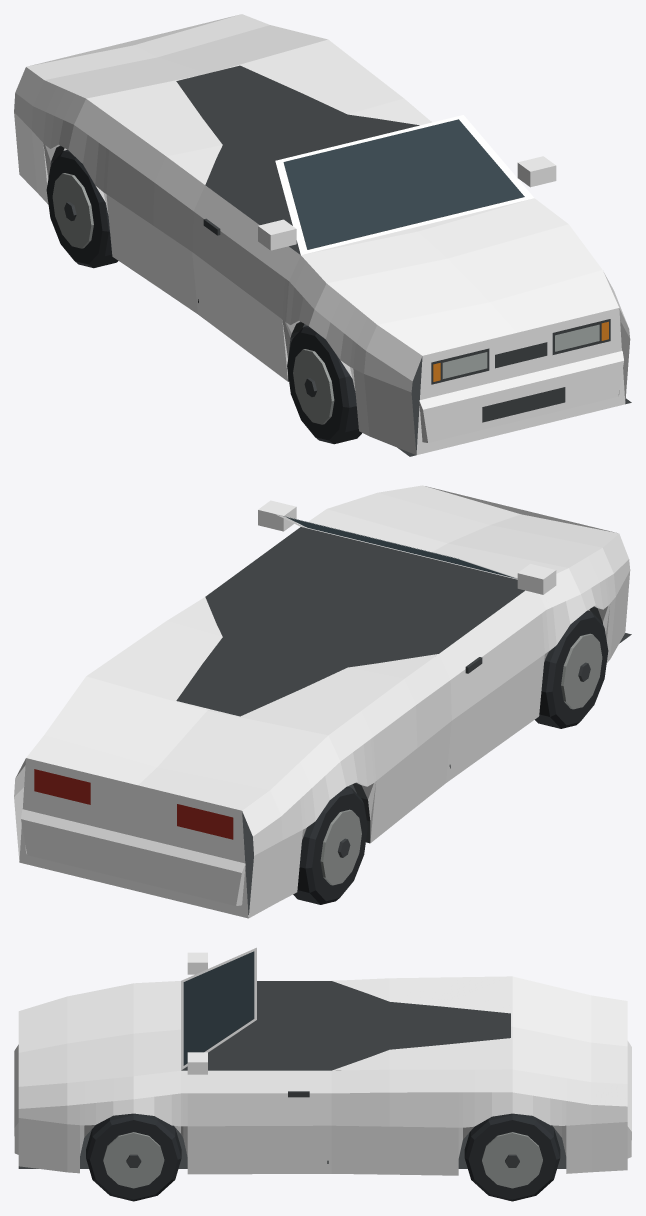
Rendered from pemberly_sedge.glb.
3 views of the same model, one above another, from view 1: azimuth 30°, elevation 25°; view 2: azimuth 150°, elevation 25°; view 3: azimuth 270°, elevation 25° (orthographic). The views are drawn at different scales.
Visible parts, largest first — view 1: pemberly_sedge; view 2: pemberly_sedge; view 3: pemberly_sedge.
Boxes of the visible parts, bbox=[...] form: pemberly_sedge: bbox=[14, 14, 631, 456]; pemberly_sedge: bbox=[14, 485, 631, 918]; pemberly_sedge: bbox=[14, 947, 631, 1201].
Size of the model in its own units: 1.54 by 1.1 by 3.67.
8 materials, 1 textured.
